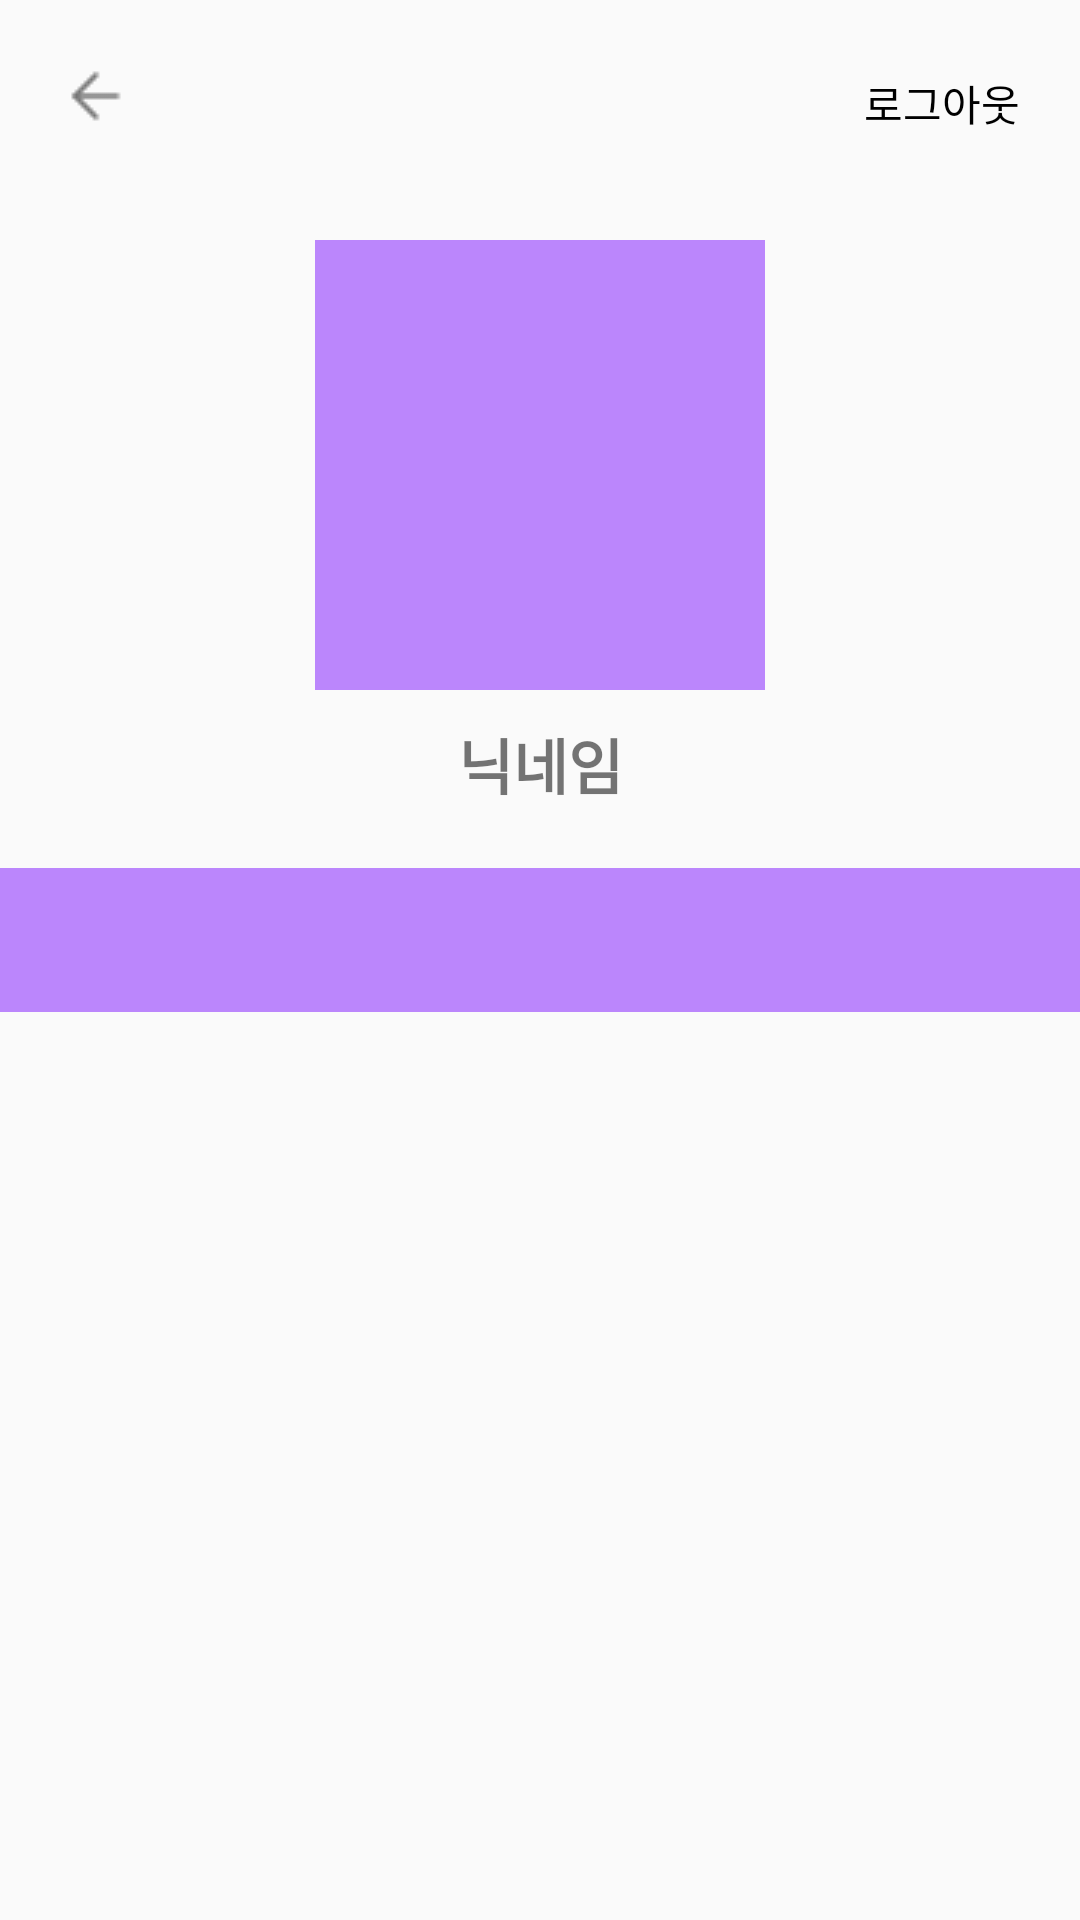

Named icons in this screenshot (1080px×1920px) and their centers, (x=x, y=y):
leftbtn: (x=95, y=96)
